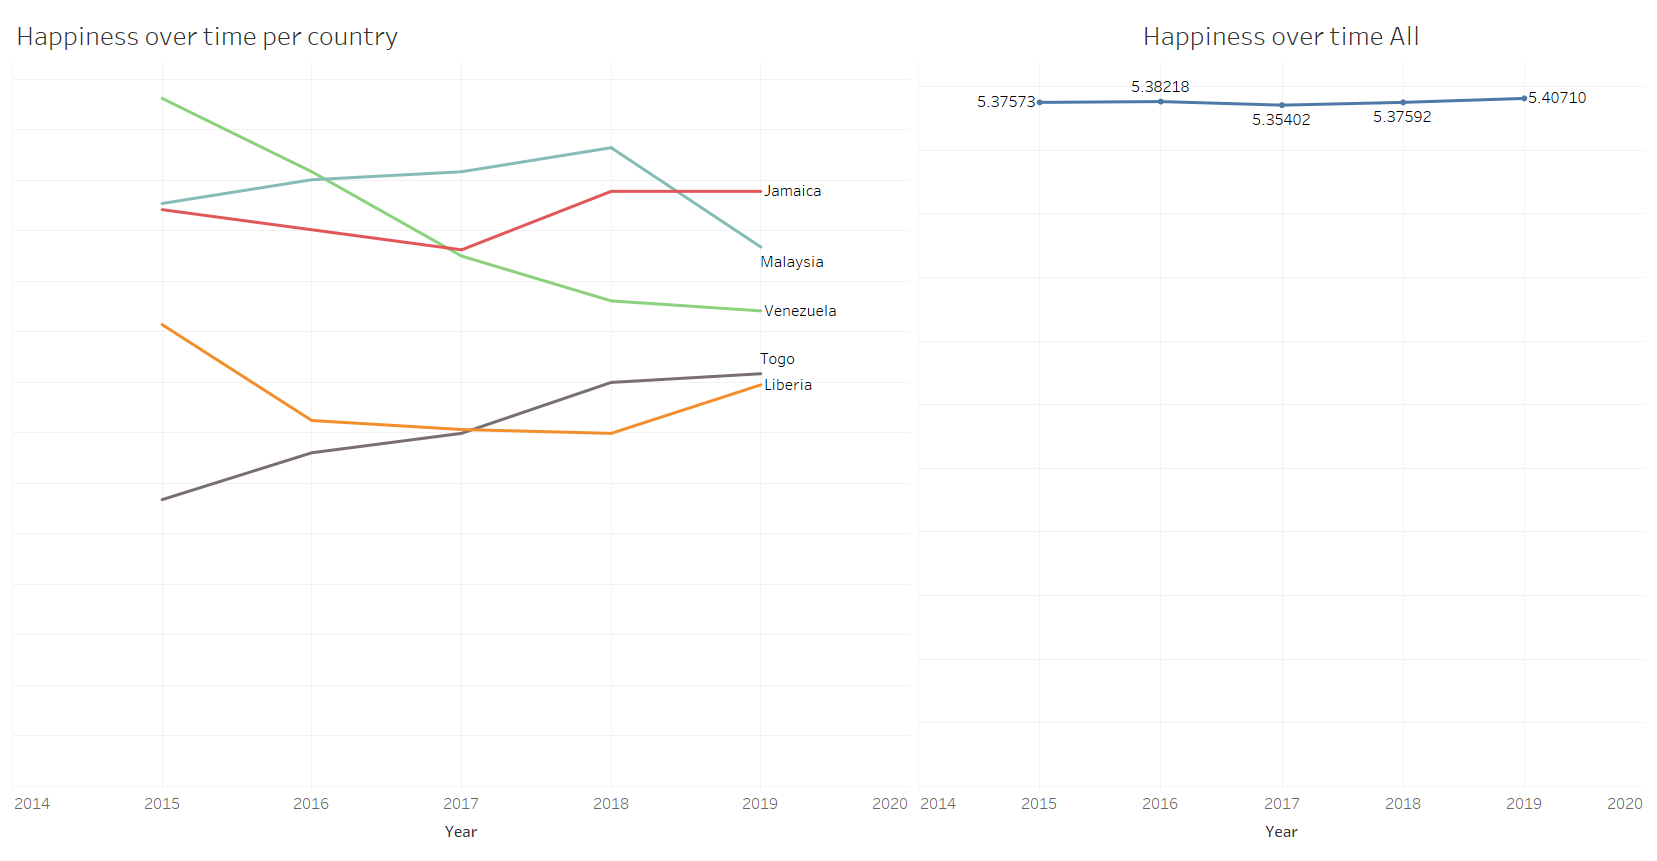

This screenshot's page, from the dashboard's own definition file:
{"tool":"tableau","page":{"name":"Countries Happiness Over time Dashboard","canvas":[1000,1000],"units":"permille","ordinal":0},"visuals":[{"type":"worksheet","title":"Happiness over time per country","mark":"Automatic","rows":["Happiness Score"],"cols":["Year"],"box":[4.8,9,546.5,982.1]},{"type":"worksheet","title":"Happiness over time All","mark":"Automatic","rows":["Happiness Score"],"cols":["Year"],"box":[551.3,9,443.9,982.1]}]}

Visuals, with their boxes on the dashboard's canvas, which has no fixed pixel size, in thousandths of its width and height (x1, y1, x2, y2). These are canvas units, not pixel positions in the 1657x861 screenshot, which may show the page scaled, cropped or inside an application window:
"Happiness over time per country" worksheet: x1=5, y1=9, x2=551, y2=991
"Happiness over time All" worksheet: x1=551, y1=9, x2=995, y2=991
